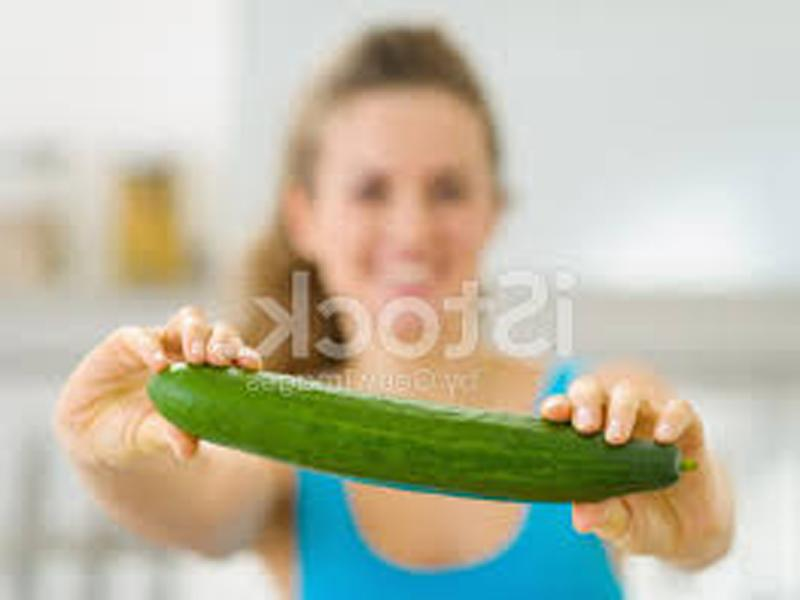Cucumber: (145, 369, 696, 503)
